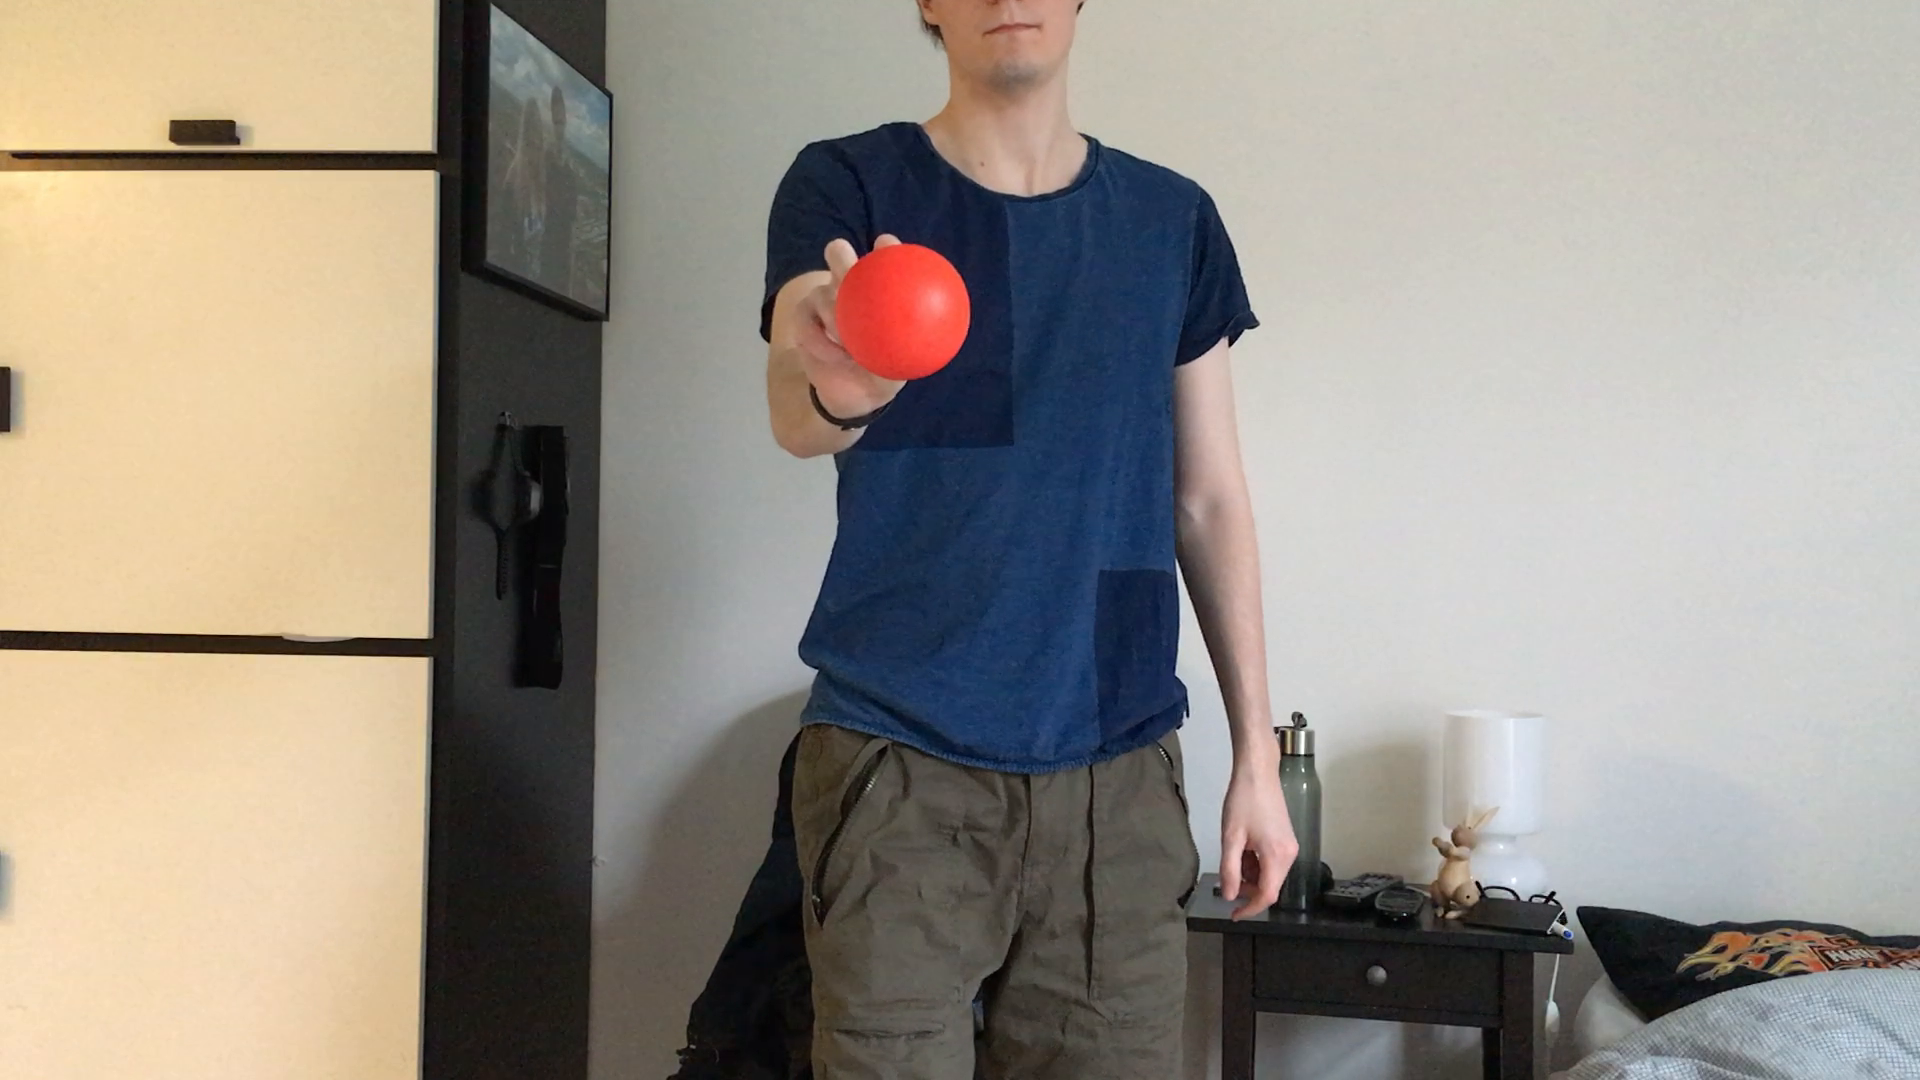Ball: (840, 247, 975, 382)
